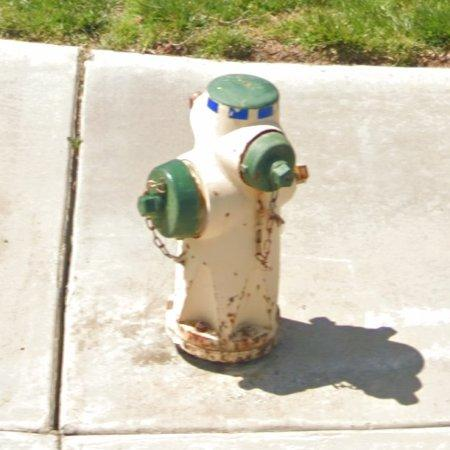a fire hydrant: (138, 74, 308, 364)
